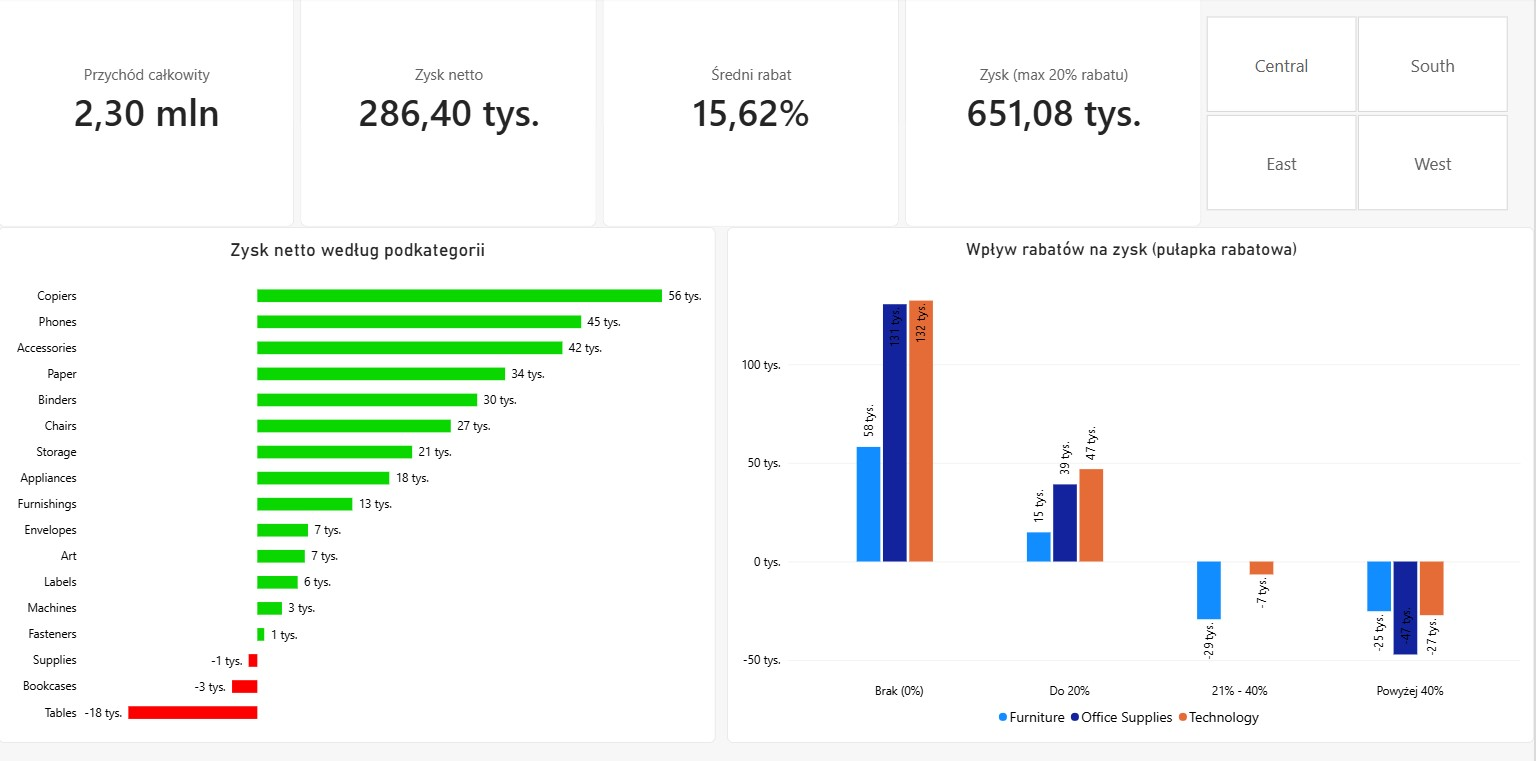

The dashboard page shown, as its layout file describes it:
{"tool":"powerbi","page":{"name":"Strona 1","canvas":[1920,1080],"ordinal":0},"visuals":[{"type":"cardVisual","fields":{"Data":["Sum(Data__2.Sales)","Sum(Data__2.Profit)","Avg(Data__2.Discount)","Sum(Data__2.WhatIfMax20%Discount)"]},"box":[0,0,1504.1,317.4],"z":0},{"type":"clusteredBarChart","title":"Zysk netto według podkategorii","fields":{"Category":["Data__2.Sub-Category"],"Y":["Sum(Data__2.Profit)"]},"box":[0,317.4,896.9,645.4],"z":1},{"type":"clusteredColumnChart","title":"Wpływ rabatów na zysk (pułapka rabatowa)","fields":{"Category":["Data__2.Przedział rabatu"],"Series":["Data__2.Category"],"Y":["Sum(Data__2.Profit)"]},"box":[911.4,317.4,1008.9,645.4],"z":2},{"type":"slicer","fields":{"Values":["Data__2.Region"]},"box":[1489.6,52.7,416.2,246.3],"z":3}]}

Visuals, with their boxes on the page's 1920x1080 design canvas (x1, y1, x2, y2). These are canvas units, not pixel positions in the 1536x761 screenshot, which may show the page scaled, cropped or inside an application window:
cardVisual - Sum(Data__2.Sales) x Sum(Data__2.Profit): <bbox>0, 0, 1504, 317</bbox>
"Zysk netto według podkategorii" clusteredBarChart: <bbox>0, 317, 897, 963</bbox>
"Wpływ rabatów na zysk (pułapka rabatowa)" clusteredColumnChart: <bbox>911, 317, 1920, 963</bbox>
slicer - Data__2.Region: <bbox>1490, 53, 1906, 299</bbox>
